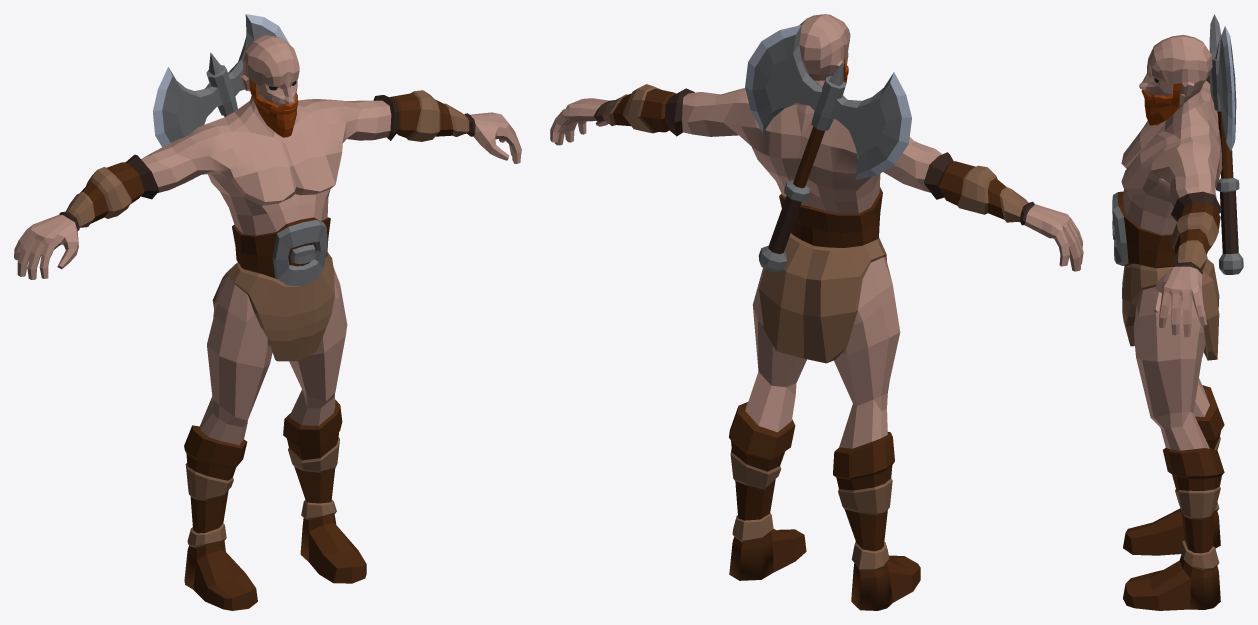
The model's file is BarbarianWAxe.gltf.
3 views of the same model, side by side, from view 1: azimuth 30°, elevation 25°; view 2: azimuth 150°, elevation 25°; view 3: azimuth 270°, elevation 25° (orthographic). The views are drawn at different scales.
Visible parts, largest first — view 1: Barbra the barbarian, Axel the axe; view 2: Barbra the barbarian, Axel the axe; view 3: Barbra the barbarian, Axel the axe.
Boxes of the visible parts, x1,y1,x2,y2 form: Barbra the barbarian: (14,35,521,610); Axel the axe: (153,14,289,147); Barbra the barbarian: (550,14,1083,610); Axel the axe: (745,25,911,272); Barbra the barbarian: (1112,34,1224,610); Axel the axe: (1209,14,1243,274).
Size of the model in its own units: 204 by 213 by 46.55.
